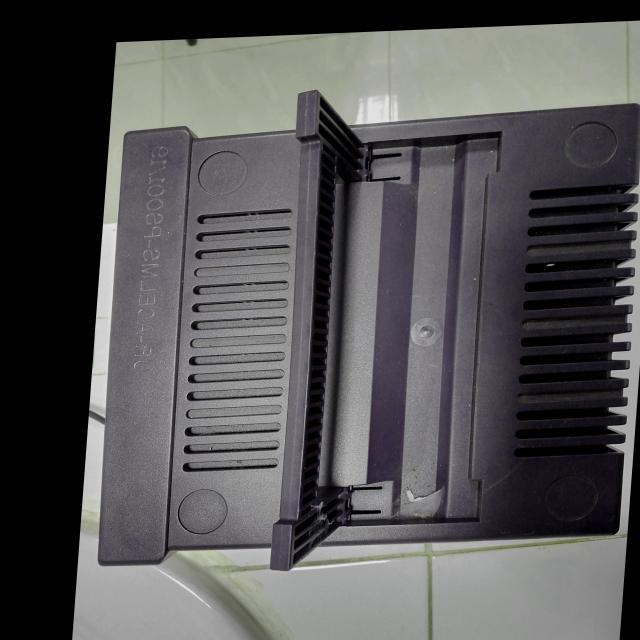Teslameter PS: (86, 63, 640, 574)
